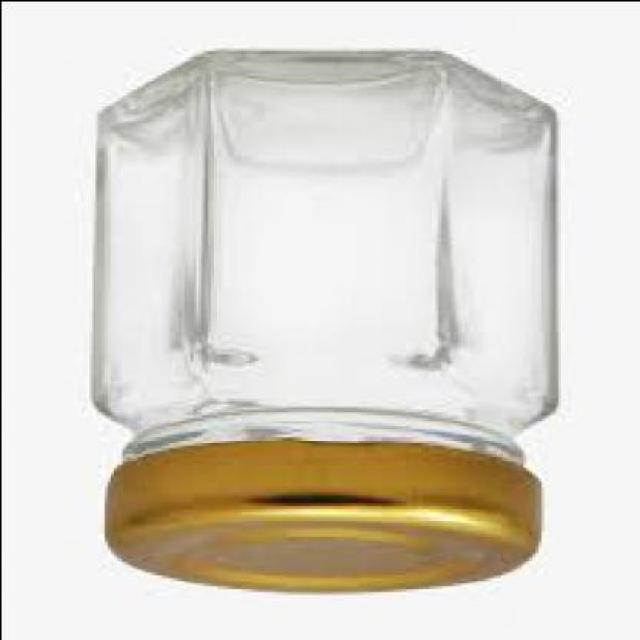GLASS: (94, 52, 560, 466)
METAL: (106, 442, 543, 598)
